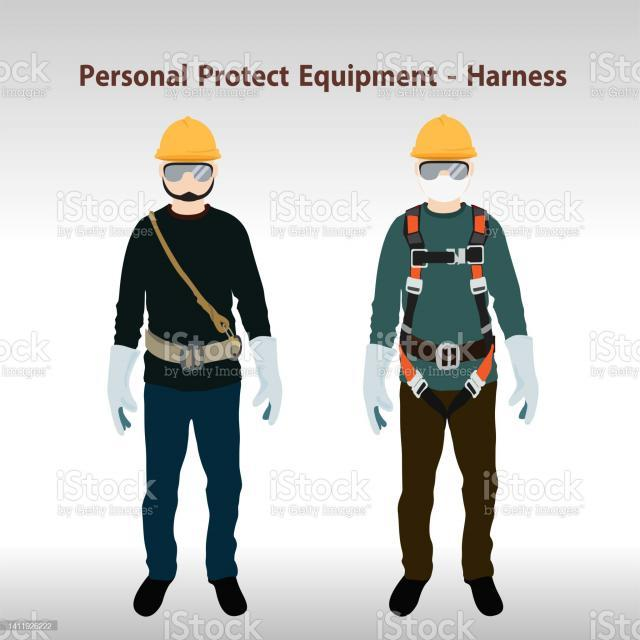belt: (386, 188, 506, 424)
